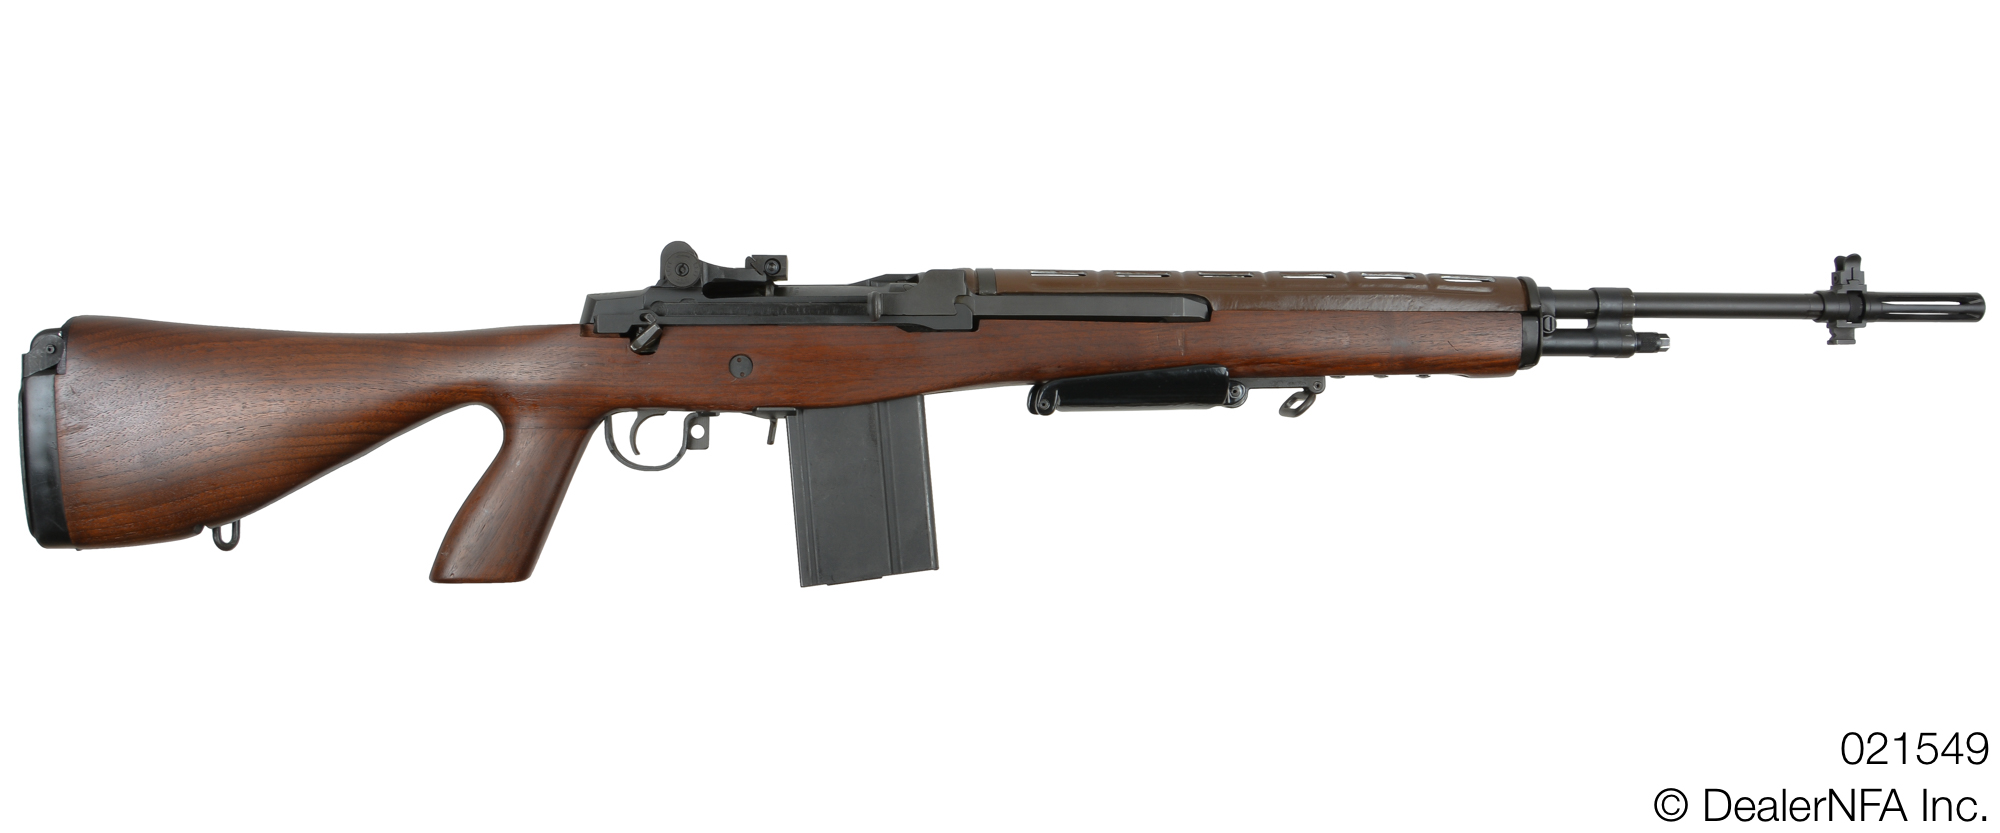Arma Real: (9, 244, 2000, 580)
